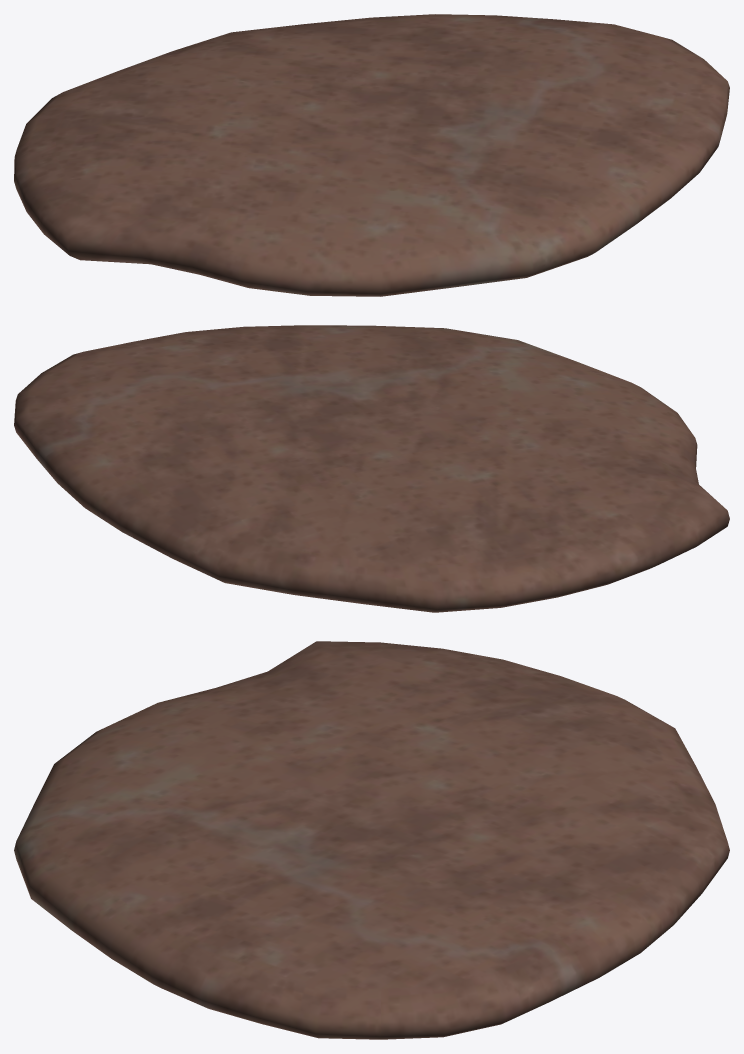
File: small_wafer_01.glb
The picture shows the model from 3 angles, top to bottom: view 1: azimuth 30°, elevation 25°; view 2: azimuth 150°, elevation 25°; view 3: azimuth 270°, elevation 25°; orthographic projection. The views are drawn at different scales.
Parts seen in each view (by area): view 1: small_wafer_01; view 2: small_wafer_01; view 3: small_wafer_01.
Boxes of the visible parts, x1,y1,x2,y2 form: small_wafer_01: (14, 14, 729, 296); small_wafer_01: (14, 325, 729, 612); small_wafer_01: (14, 641, 729, 1039).
Bounding box in the file's own units: 0.056 × 0.00551 × 0.0448.
1 material, 1 textured.
